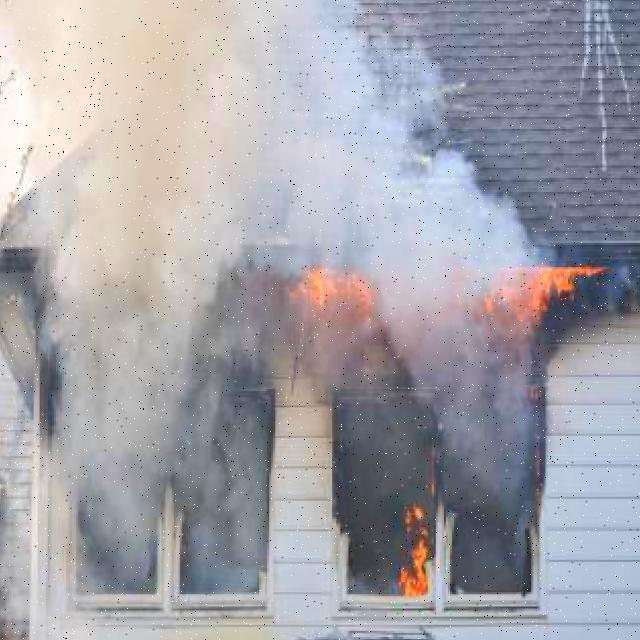fire: (476, 245, 594, 326), (298, 257, 391, 324), (399, 495, 438, 604)
smoke: (0, 5, 552, 635)
